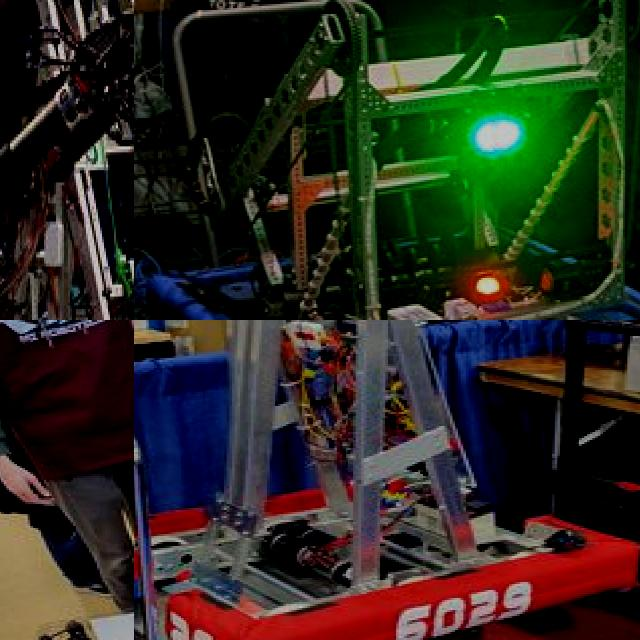FRC-Robots: (134, 320, 640, 640), (144, 0, 640, 320), (0, 32, 134, 320), (49, 0, 134, 320), (90, 320, 134, 640)
